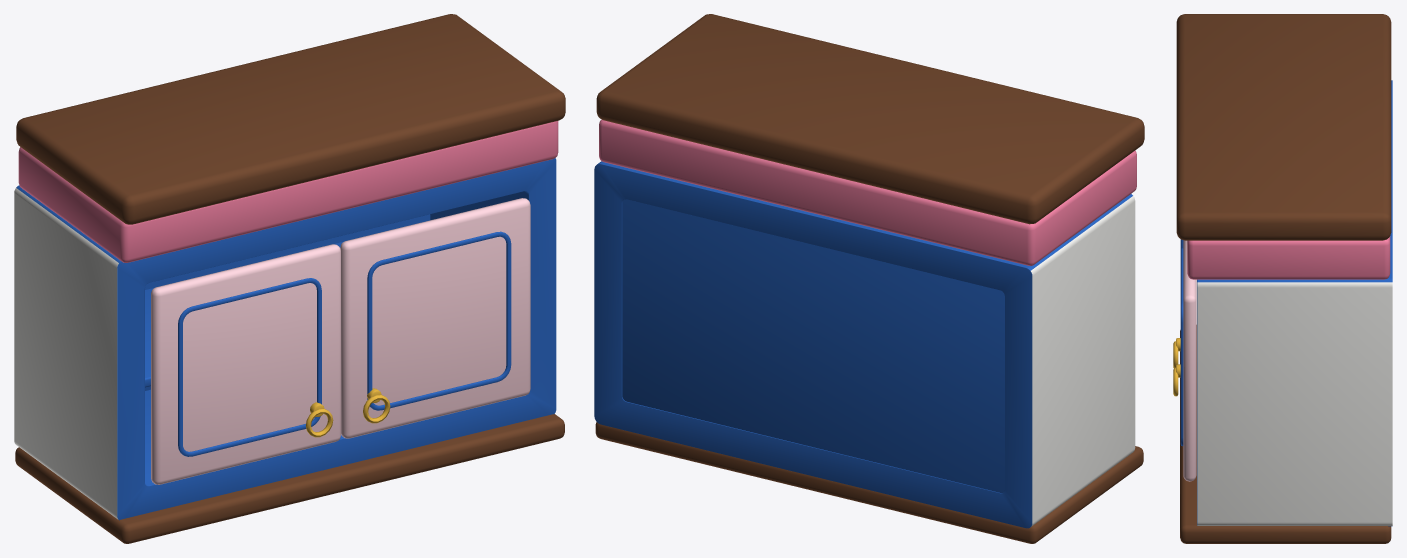
File: armario_parede_2portas_colonial_rosa.glb
3 views of the same model, side by side, from view 1: azimuth 30°, elevation 25°; view 2: azimuth 150°, elevation 25°; view 3: azimuth 270°, elevation 25° (orthographic). The views are drawn at different scales.
Visible parts, largest first — view 1: armario_parede_2portas_colonial_rosa, porta_1, porta_2; view 2: armario_parede_2portas_colonial_rosa; view 3: armario_parede_2portas_colonial_rosa, porta_2.
Boxes of the visible parts, x1=… form: armario_parede_2portas_colonial_rosa: x1=14, y1=14, x2=565, y2=543; porta_1: x1=151, y1=244, x2=340, y2=484; porta_2: x1=340, y1=198, x2=530, y2=438; armario_parede_2portas_colonial_rosa: x1=594, y1=14, x2=1144, y2=543; armario_parede_2portas_colonial_rosa: x1=1176, y1=14, x2=1392, y2=543; porta_2: x1=1173, y1=240, x2=1196, y2=481.
Bounding box in the file's own units: 0.798 × 0.6 × 0.3612.
1 material, 1 textured.
